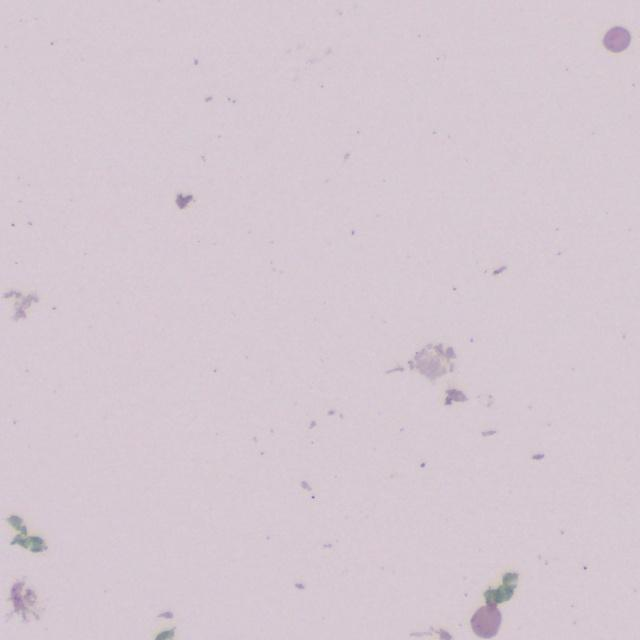intermediate: (471, 601, 501, 638), (603, 26, 630, 52)
non_viable: (496, 584, 514, 602), (501, 572, 518, 590), (485, 588, 503, 604)
